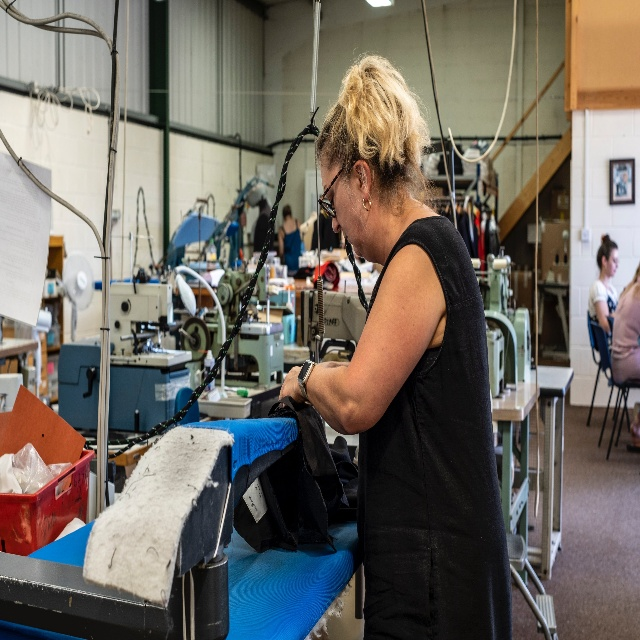Gafas: (318, 163, 346, 218)
Sin_guantes: (278, 364, 305, 407)
